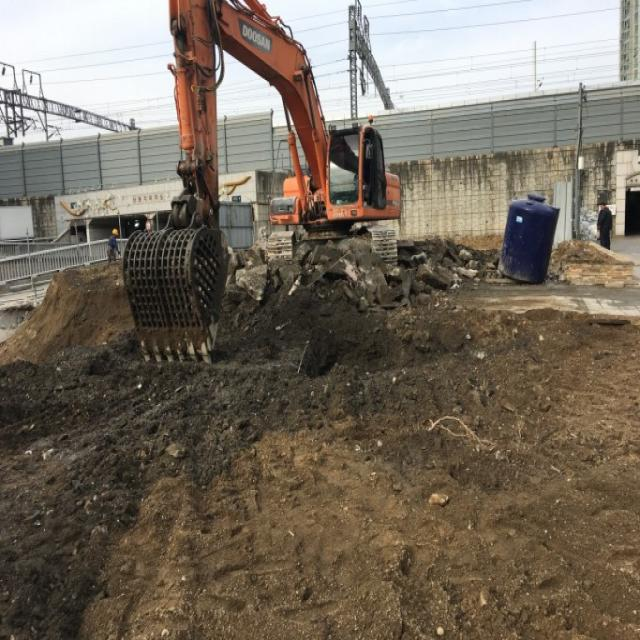excavator: (122, 0, 401, 366)
